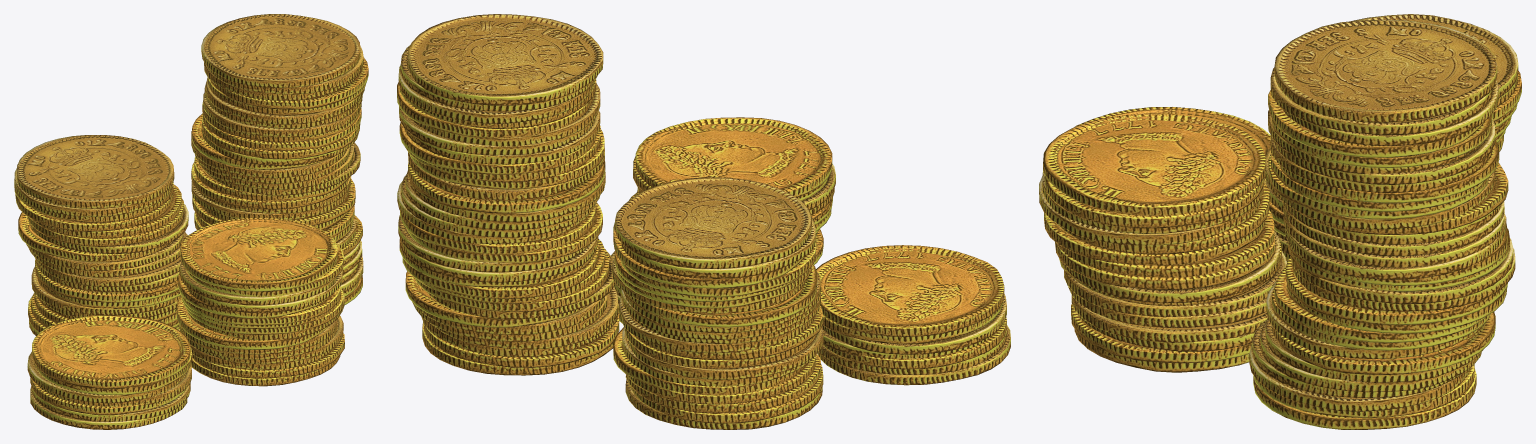
The model's file is coins.fbx.
The picture shows the model from 3 angles, left to right: view 1: azimuth 30°, elevation 25°; view 2: azimuth 150°, elevation 25°; view 3: azimuth 270°, elevation 25°; orthographic projection. The views are drawn at different scales.
Parts seen in each view (by area): view 1: Stacks of Gold Coins; view 2: Stacks of Gold Coins; view 3: Stacks of Gold Coins.
Boxes of the visible parts, x1,y1,x2,y2 form: Stacks of Gold Coins: (14,14,368,429); Stacks of Gold Coins: (397,14,1010,429); Stacks of Gold Coins: (1039,14,1521,429).
Bounding box in the file's own units: 14.58 × 8.08 × 10.99.
1 material, 1 textured.
